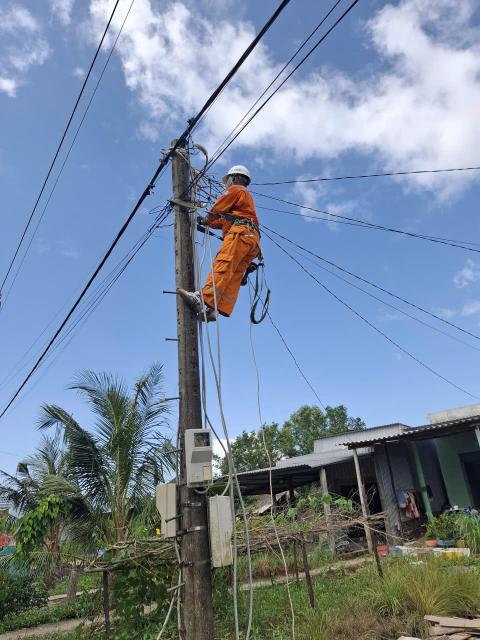gloves: (193, 212, 209, 229)
harness: (217, 210, 268, 236)
helmet: (205, 164, 253, 192)
shoes: (190, 297, 223, 328), (179, 282, 209, 316)
